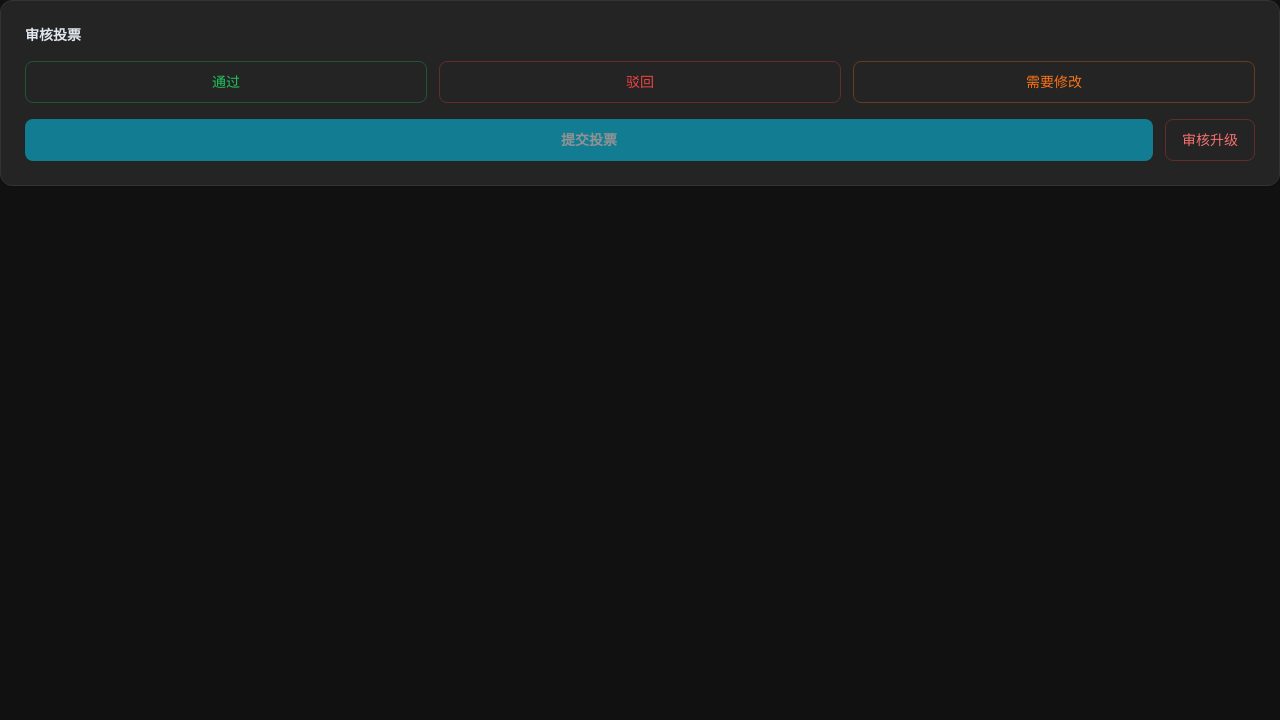
it: VotePanel › 确认弹窗中点击"取消"应关闭弹窗
Click the button "通过" at (226, 82), box [25,61,427,103]
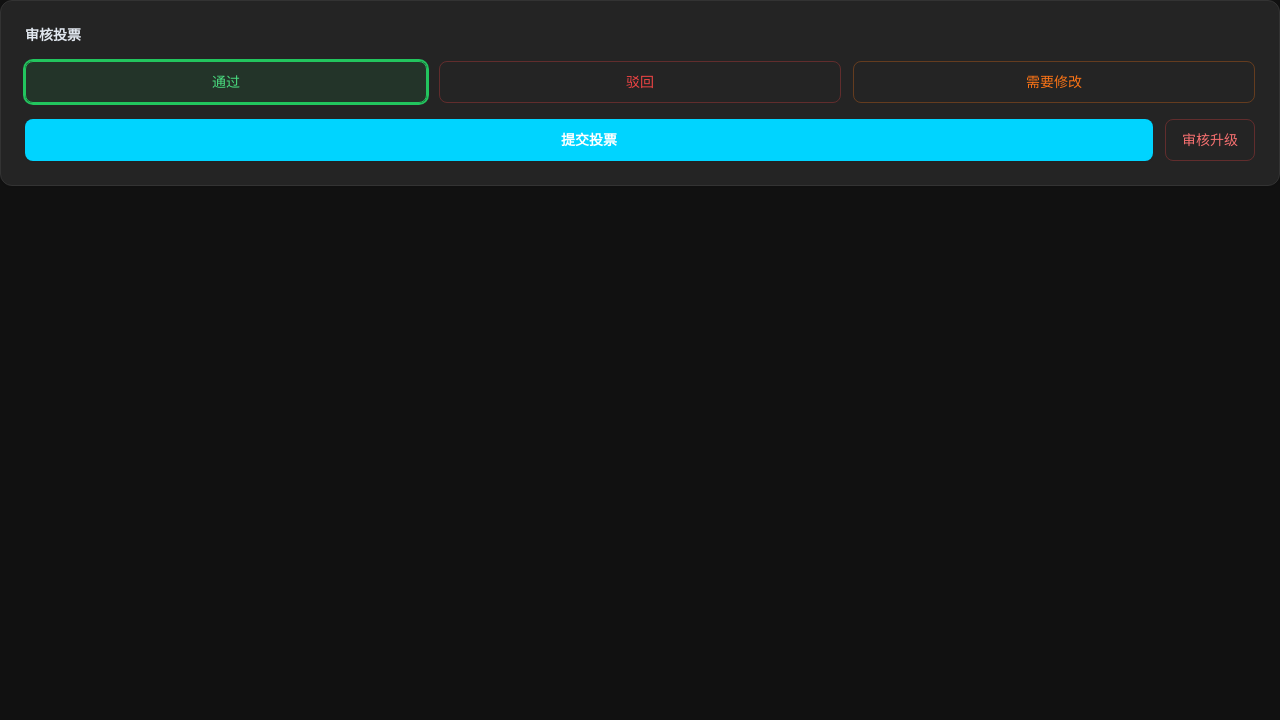
Click the button "提交投票" at (589, 140), box [25,119,1153,161]
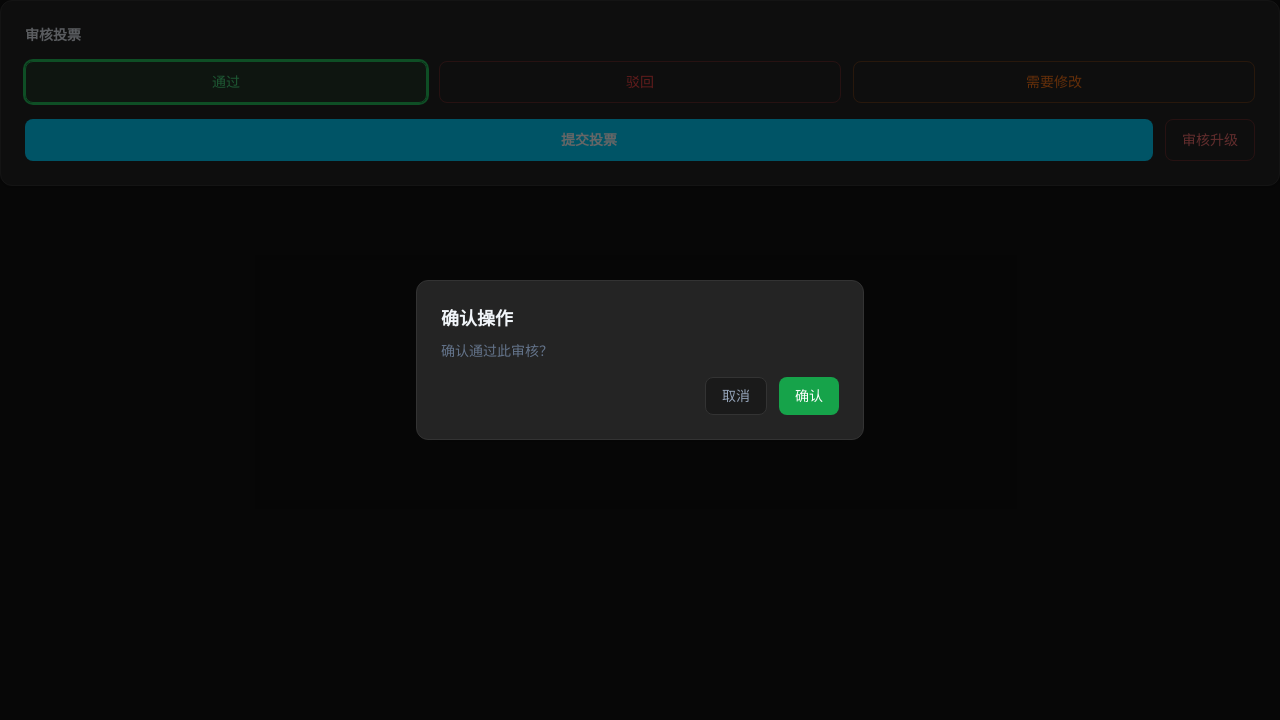
Click the button "取消" at (736, 396), box [705,377,767,415]
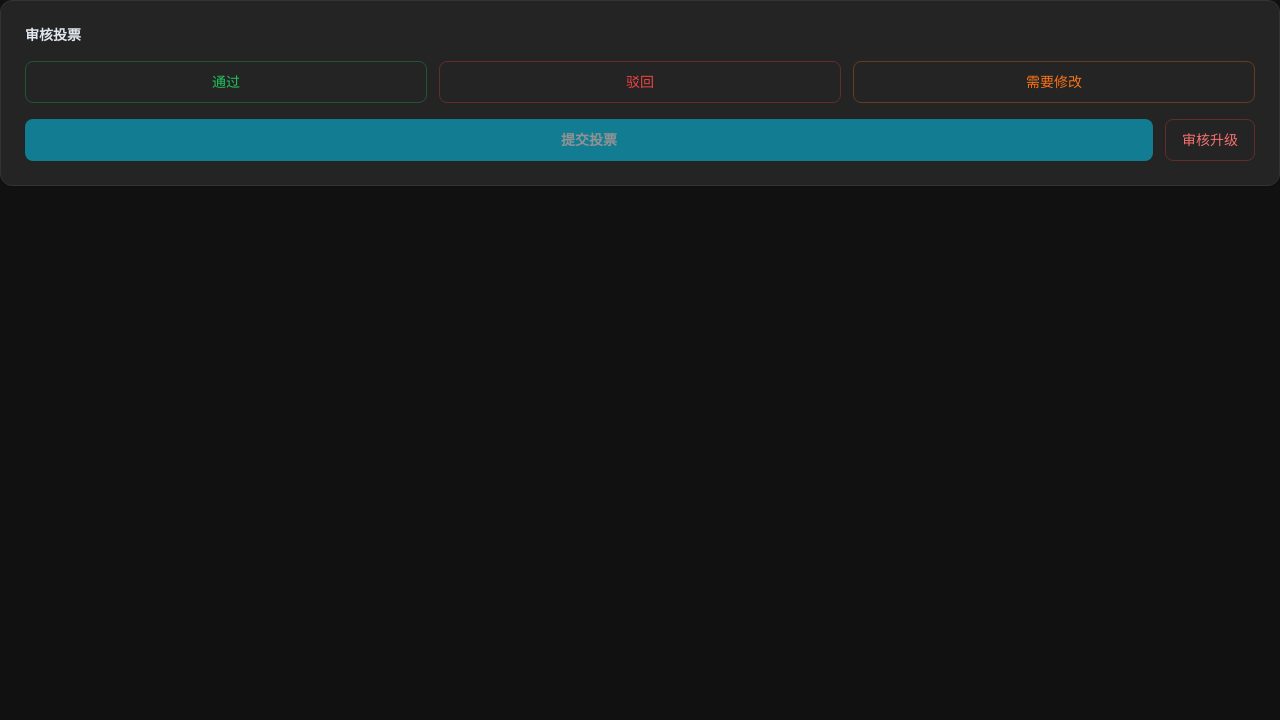
expect the heading "确认操作" is gone: met
